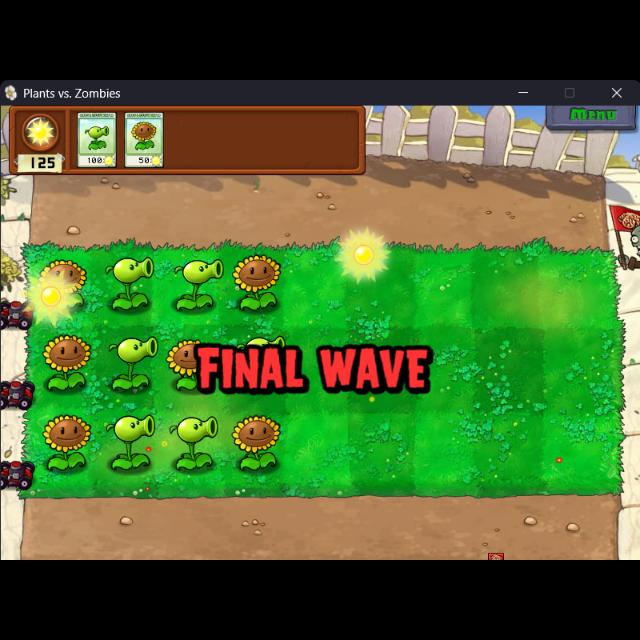Flag Zombie: (606, 202, 640, 274)
Garden: (16, 240, 628, 498)
Menu Button: (546, 99, 636, 129)
Mower: (0, 455, 36, 495), (1, 294, 36, 332), (0, 378, 34, 412)
Peashooter: (75, 112, 119, 168)
Peashooter Seed: (100, 409, 158, 473), (106, 330, 160, 396), (102, 254, 160, 314), (170, 254, 224, 316), (166, 413, 220, 473), (236, 326, 292, 354)
Seed Panel: (10, 103, 366, 173)
Sun: (330, 227, 392, 283), (26, 270, 80, 324)
Sunflower: (125, 112, 163, 168)
Sunflower Seed: (227, 409, 286, 475), (230, 245, 284, 317), (36, 331, 94, 397), (38, 411, 92, 473), (39, 252, 90, 310), (164, 334, 198, 392)
